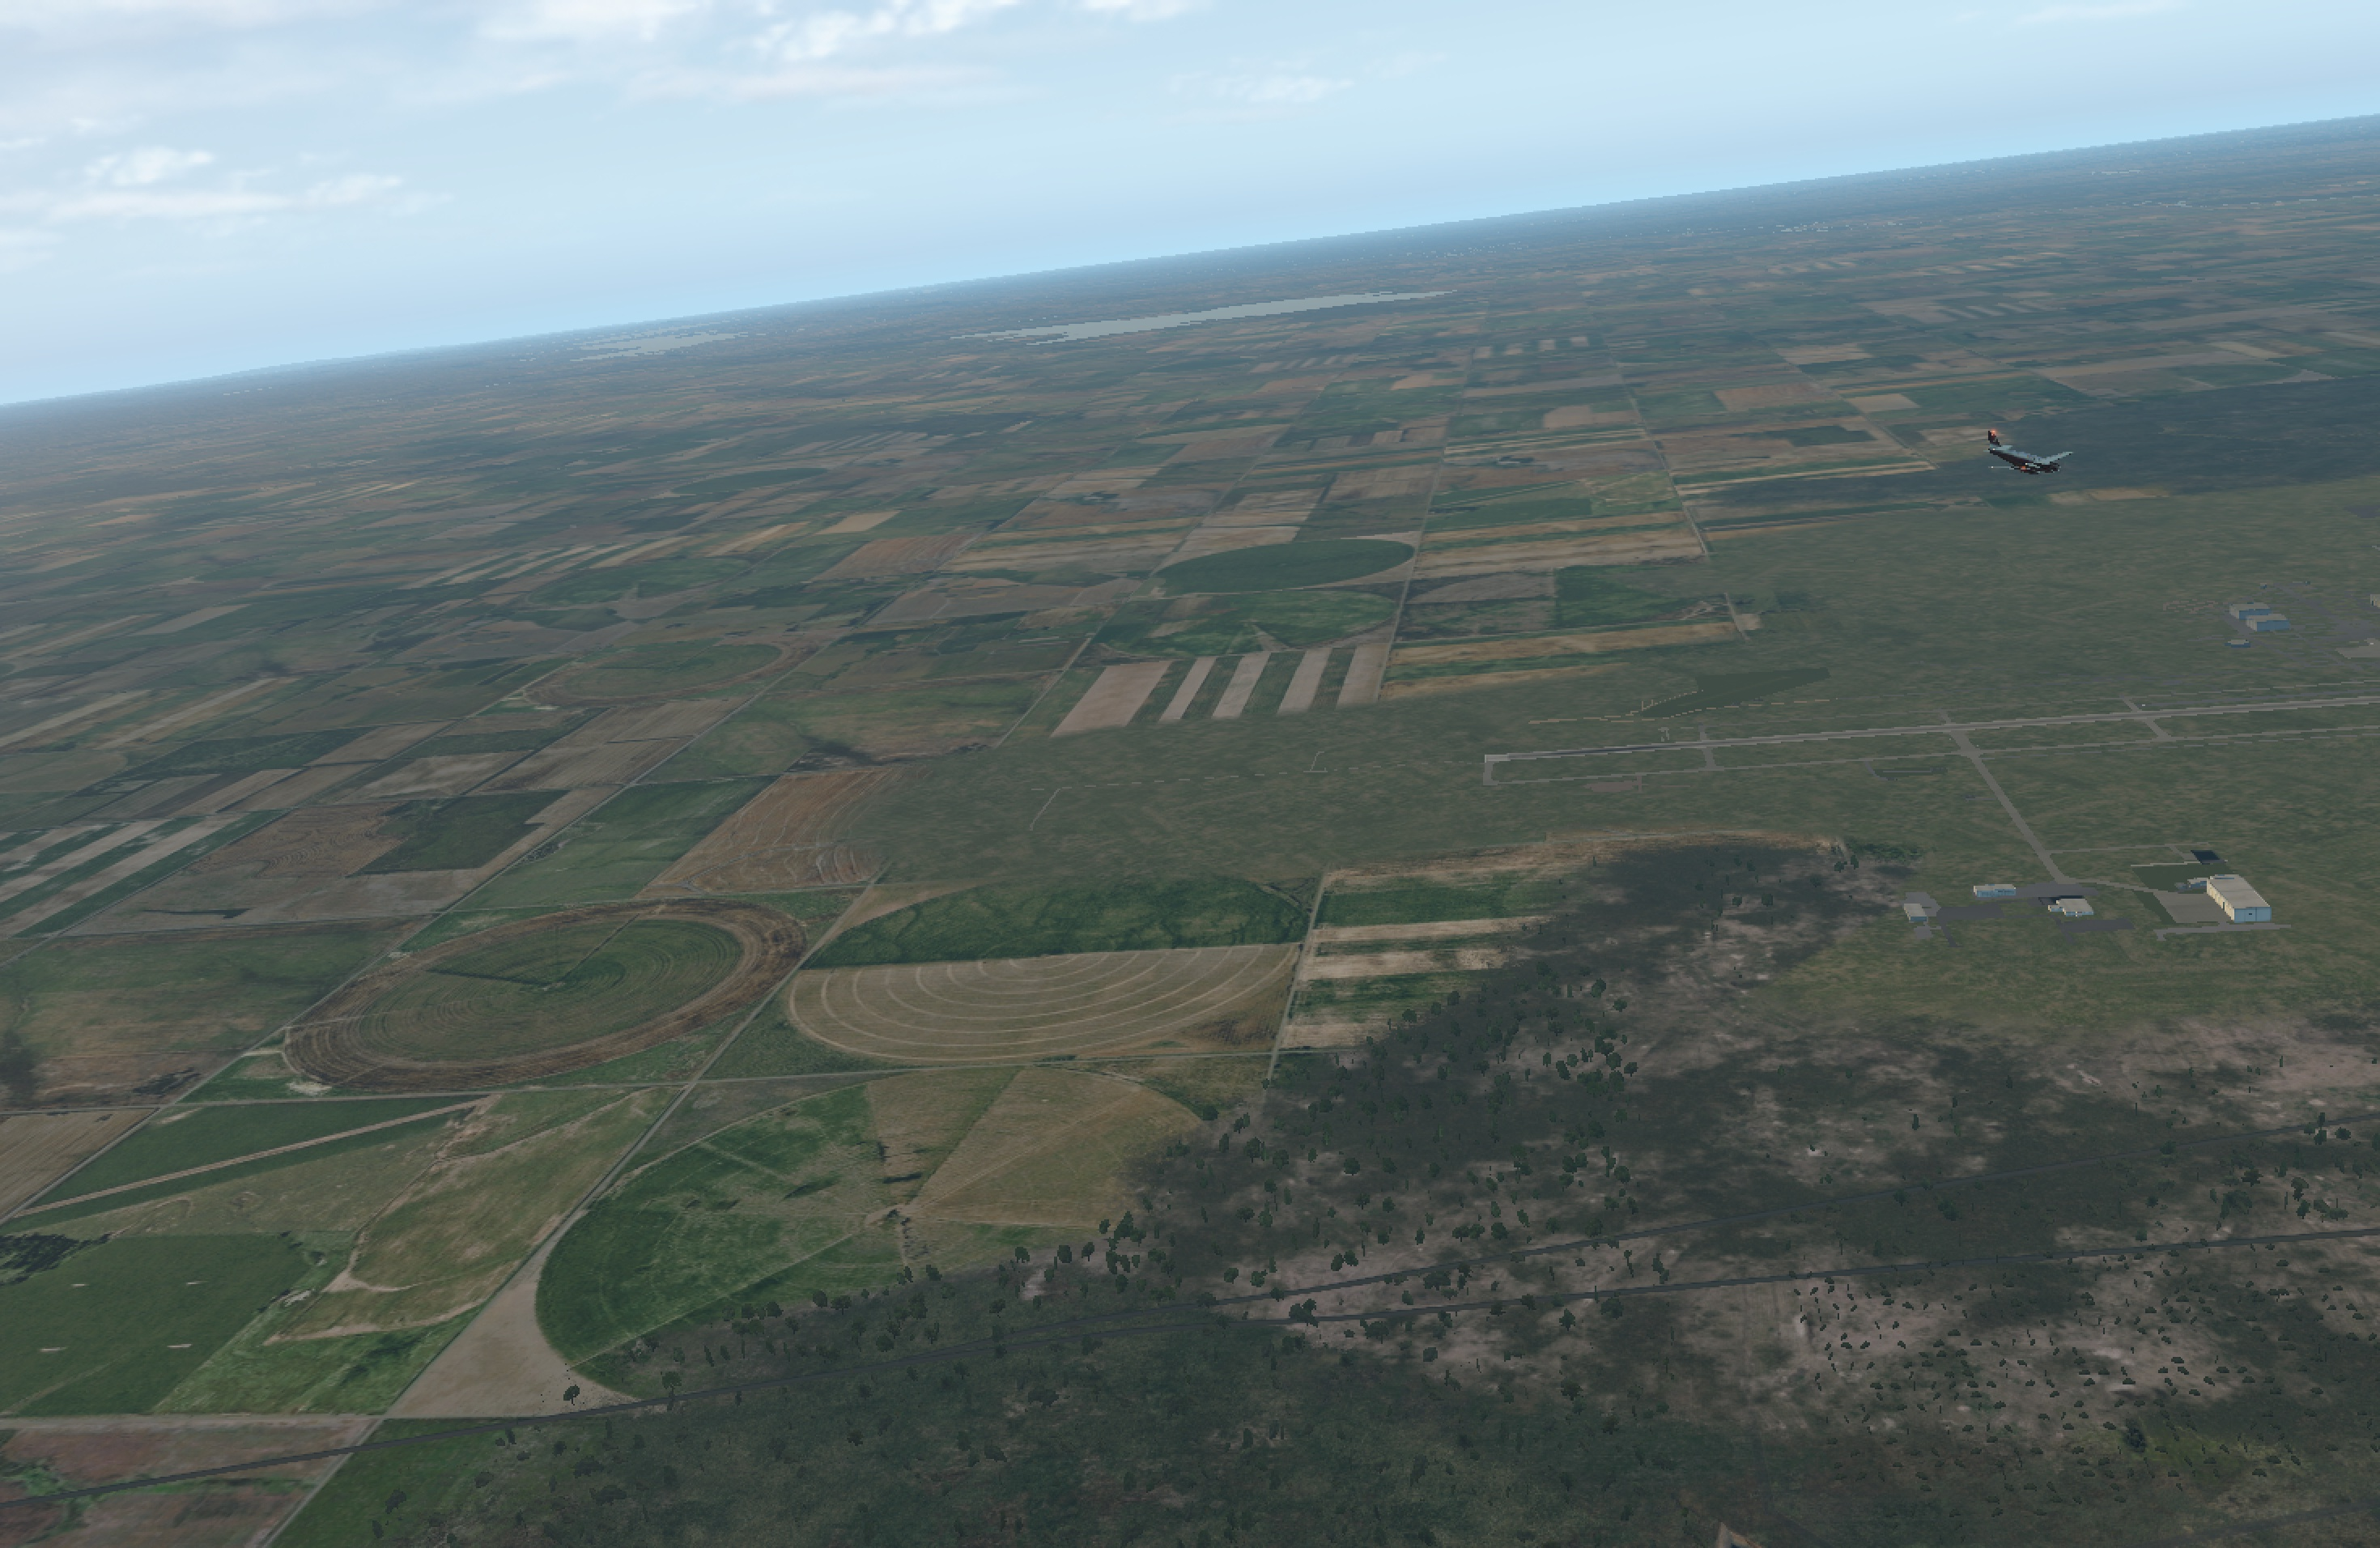aircraft: (1976, 448, 2089, 489)
